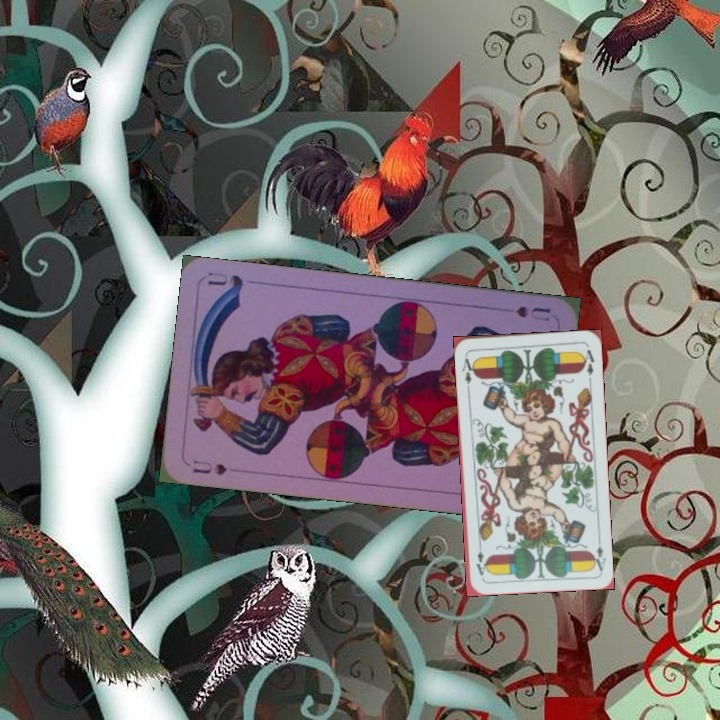EA: (588, 533, 608, 573), (458, 351, 478, 387)
SU: (512, 301, 553, 323), (189, 456, 229, 478)
